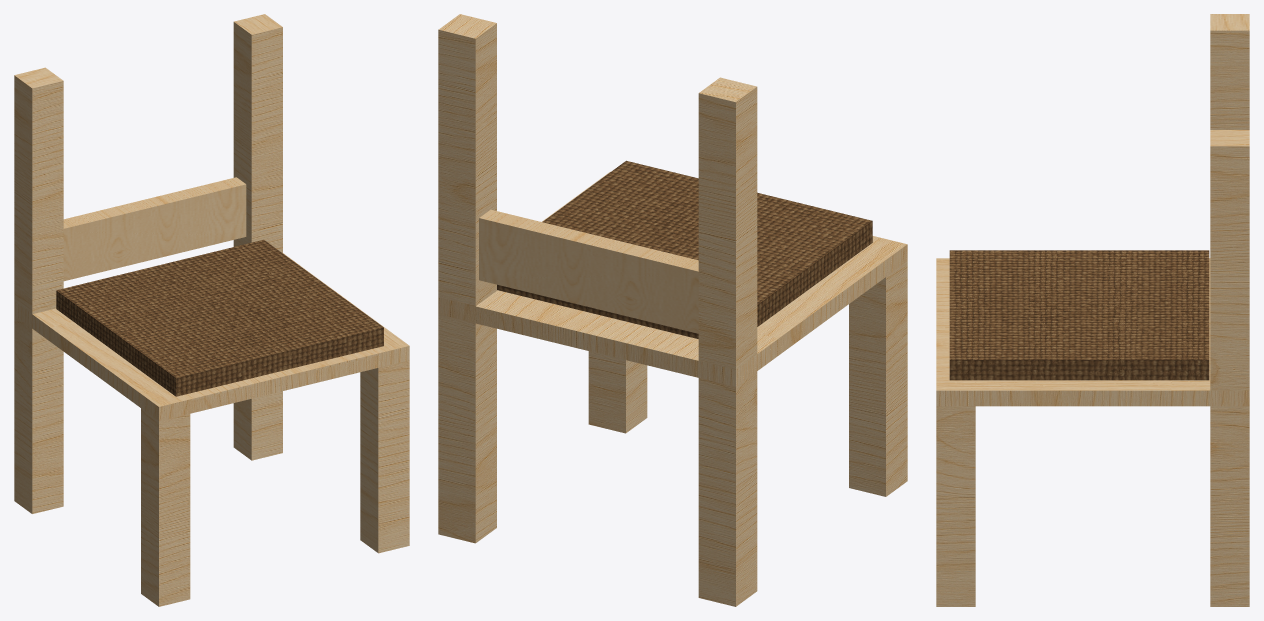
File: WoodenChair.glb
3 renders of one model, left to right at view 1: azimuth 30°, elevation 25°; view 2: azimuth 150°, elevation 25°; view 3: azimuth 270°, elevation 25°, orthographic. The views are drawn at different scales.
Visible parts, largest first — view 1: Chair, Seat, Back Panels; view 2: Chair, Seat, Back Panels; view 3: Chair, Seat.
Part boxes in pixels (x1,y1,x2,y2): Chair: (14, 14, 409, 606); Seat: (56, 239, 383, 396); Back Panels: (63, 177, 246, 281); Chair: (438, 14, 907, 606); Seat: (497, 160, 872, 338); Back Panels: (479, 209, 698, 333); Chair: (936, 14, 1249, 606); Seat: (949, 250, 1209, 380).
Size of the model in its own units: 2 by 3.24 by 2.
Materials: 3 (3 with a texture image).
